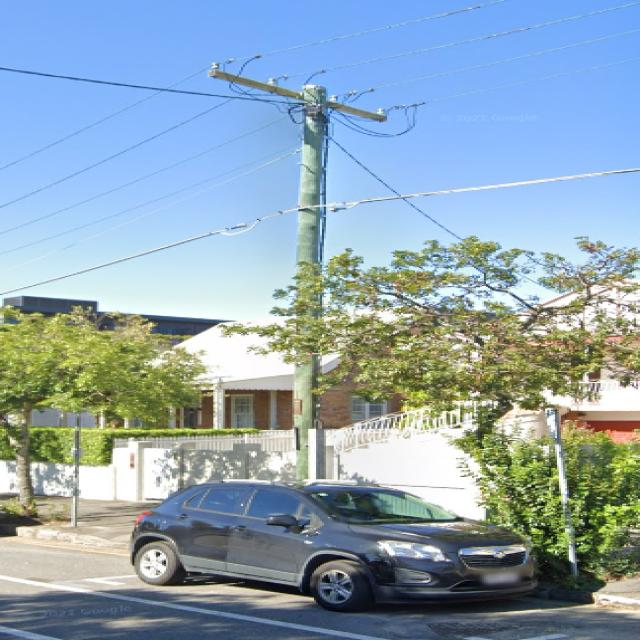crossarm: (206, 62, 386, 124)
mid mount pole: (207, 61, 387, 484)
timber-pole: (290, 83, 332, 483)
